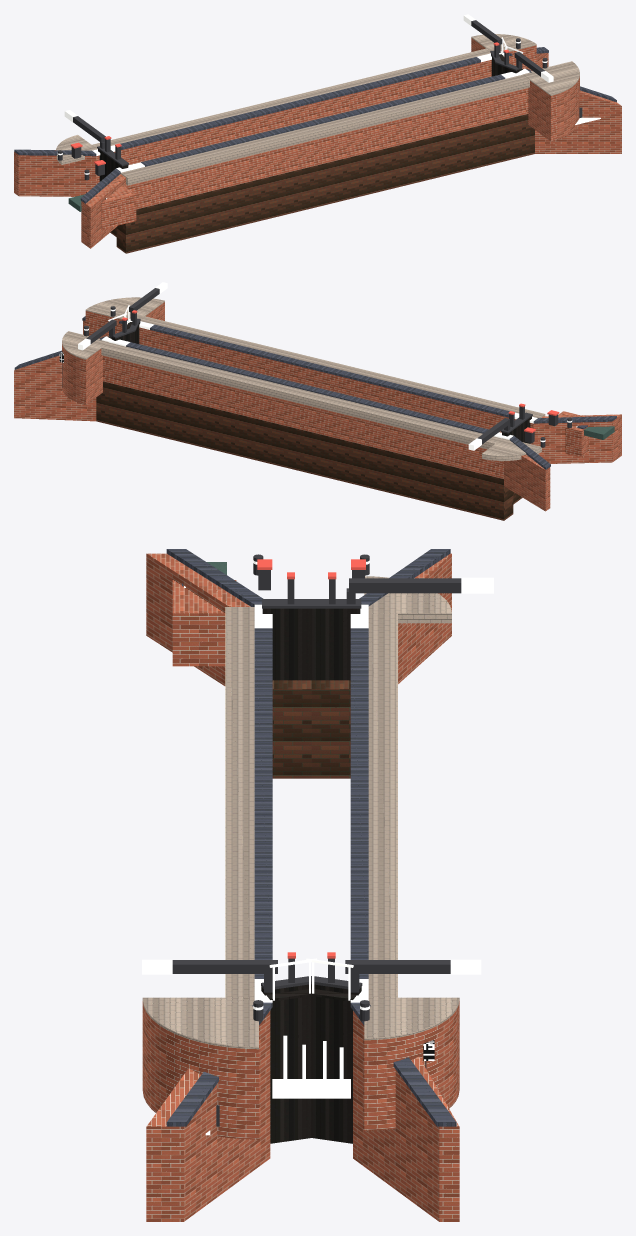
File: lock-45.glb
3 renders of one model, top to bottom at view 1: azimuth 30°, elevation 25°; view 2: azimuth 150°, elevation 25°; view 3: azimuth 270°, elevation 25°, orthographic. The views are drawn at different scales.
Parts seen in each view (by area): view 1: Chamber, ChamberWet, Edge, Coping.001, TopGateCap, Coping, TopGate; view 2: Chamber, ChamberWet, Edge, Coping.001, TopGateCap, Coping, TopGate; view 3: Chamber, Edge, Coping.001, TopGate, TopGateCap, ChamberWet, Coping, Leak.
Boxes of the visible parts, box(x1,y1,x2,y2) form: Chamber: box(14, 38, 621, 248); ChamberWet: box(110, 114, 534, 253); Edge: box(56, 34, 579, 185); Coping.001: box(14, 47, 616, 203); TopGateCap: box(58, 20, 582, 180); Coping: box(57, 14, 553, 174); TopGate: box(98, 54, 522, 181); Chamber: box(14, 302, 621, 511); ChamberWet: box(96, 381, 522, 520); Edge: box(62, 297, 545, 460); Coping.001: box(14, 316, 616, 469); TopGateCap: box(62, 288, 571, 447); Coping: box(78, 282, 572, 450); TopGate: box(108, 321, 531, 443); Chamber: box(142, 553, 459, 1221); Edge: box(142, 576, 459, 1049); Coping.001: box(166, 549, 456, 1126); TopGate: box(261, 608, 361, 1143); TopGateCap: box(172, 554, 461, 1126); ChamberWet: box(272, 680, 350, 778); Coping: box(142, 560, 493, 1010); Leak: box(184, 586, 350, 1135).
Bounding box in the file's own units: 32.69 × 5.66 × 9.38.
11 materials, 8 textured.
